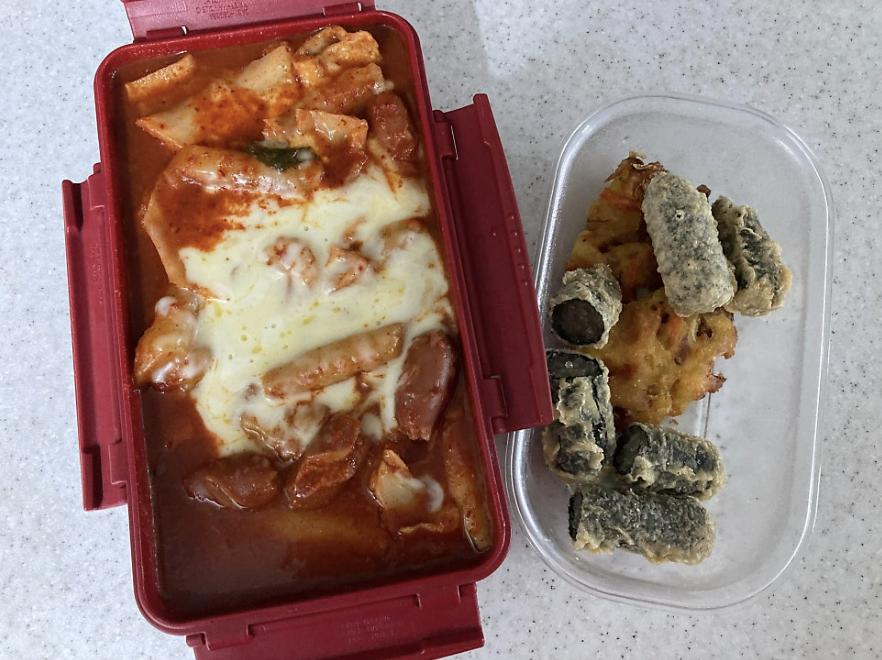Lunch Box: (63, 0, 551, 659), (506, 96, 830, 609)
